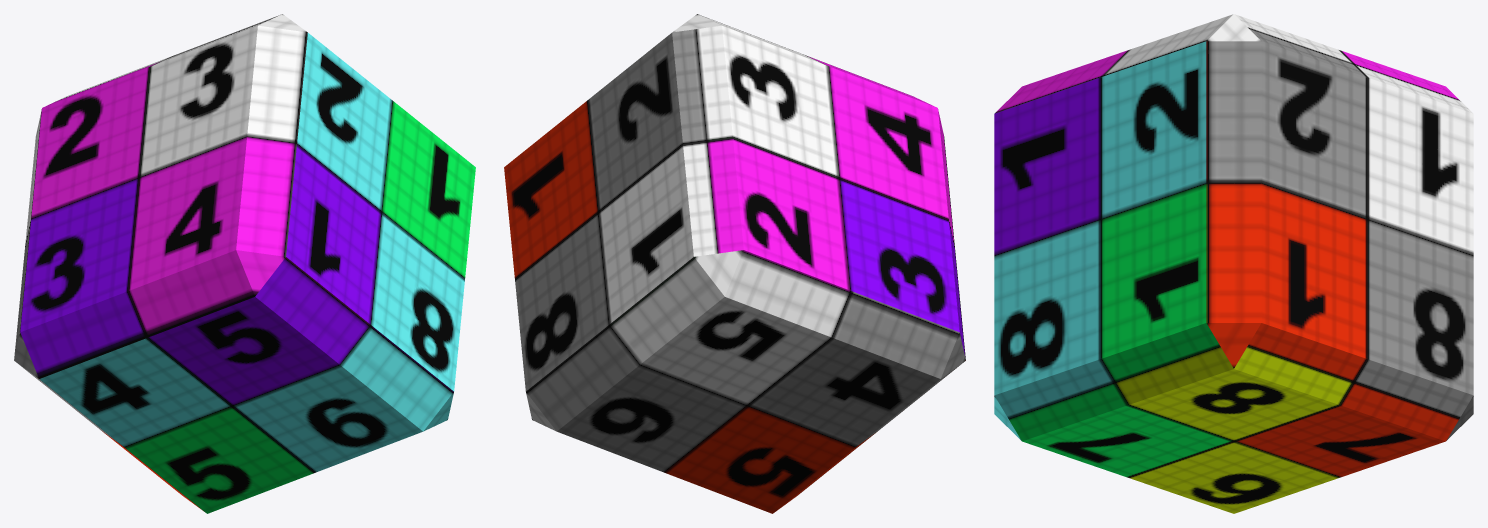
Rendered from placeholder_discovery.glb.
3 views of the same model, side by side, from view 1: azimuth 30°, elevation 25°; view 2: azimuth 150°, elevation 25°; view 3: azimuth 270°, elevation 25° (orthographic). The views are drawn at different scales.
Visible parts, largest first — view 1: cubus_giganticus; view 2: cubus_giganticus; view 3: cubus_giganticus.
Boxes of the visible parts, x1,y1,x2,y2 form: cubus_giganticus: [14, 14, 475, 513]; cubus_giganticus: [504, 14, 965, 513]; cubus_giganticus: [994, 14, 1473, 513].
Size of the model in its own units: 3 by 3 by 2.54.
Materials: 1 (1 with a texture image).
